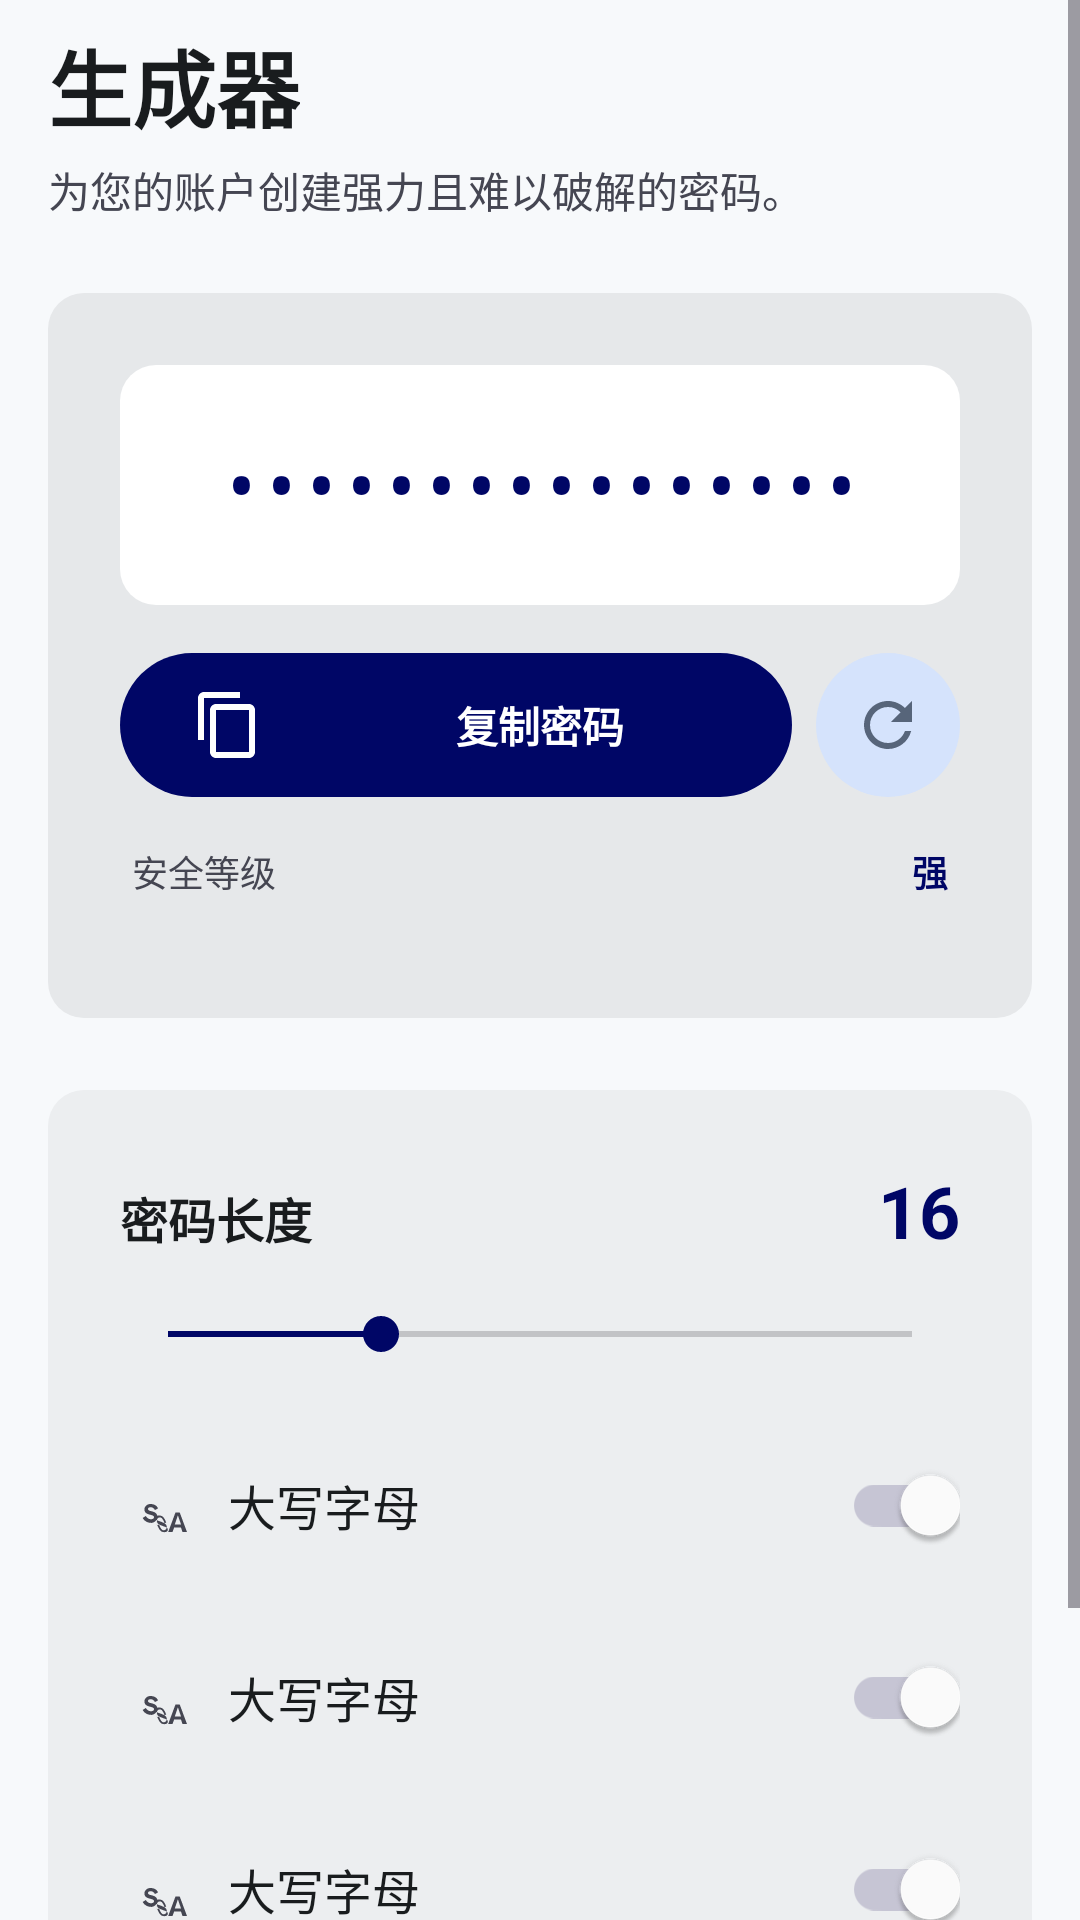

Where icons sit on this 1080px x 1920px app screen, as (x1, y1, x2, y2):
match case: (143, 1504, 187, 1533), (143, 1696, 187, 1725), (143, 1888, 187, 1917)
refresh: (816, 653, 960, 797)
